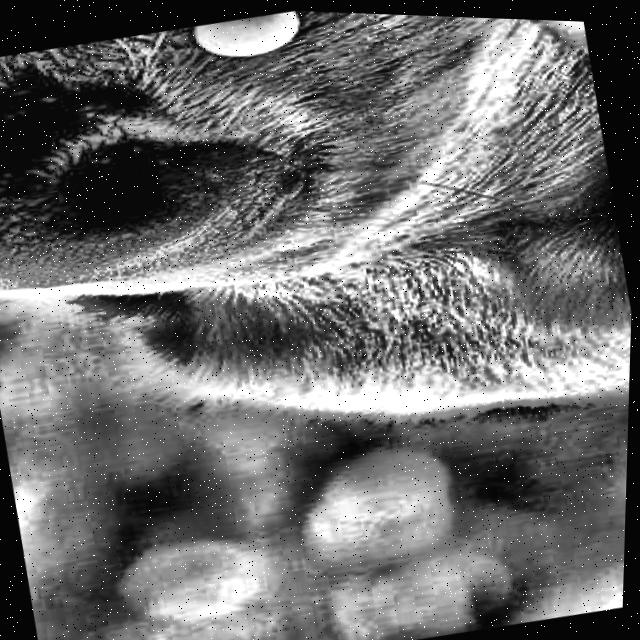dog: (0, 0, 640, 594)
